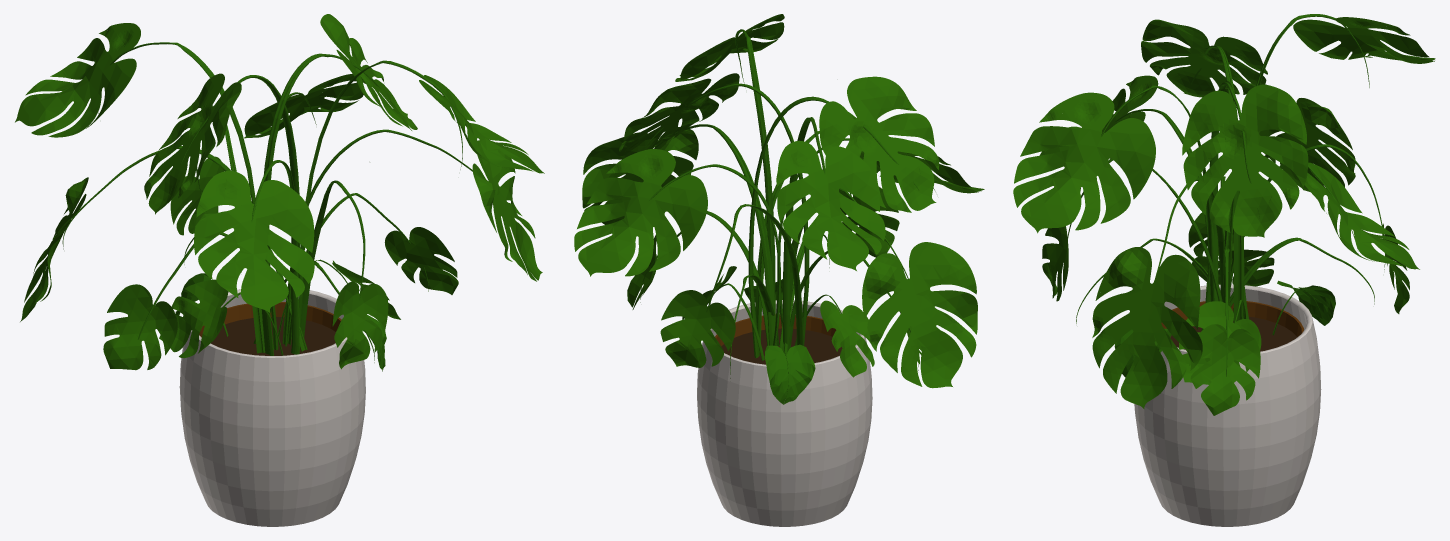
Rendered from plant.glb.
3 views of the same model, side by side, from view 1: azimuth 30°, elevation 25°; view 2: azimuth 150°, elevation 25°; view 3: azimuth 270°, elevation 25° (orthographic). The views are drawn at different scales.
Visible parts, largest first — view 1: VisualSceneNode1, VisualSceneNode1.001; view 2: VisualSceneNode1, VisualSceneNode1.001; view 3: VisualSceneNode1, VisualSceneNode1.001.
Part boxes in pixels (x1,y1,x2,y2): VisualSceneNode1: (15, 14, 544, 371); VisualSceneNode1.001: (179, 60, 462, 526); VisualSceneNode1: (574, 14, 984, 404); VisualSceneNode1.001: (697, 29, 872, 526); VisualSceneNode1: (1013, 14, 1435, 415); VisualSceneNode1.001: (1080, 85, 1321, 526).
Bounding box in the file's own units: 1.09 × 1.01 × 0.8604.
